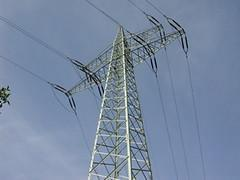power_tower: (57, 17, 189, 180)
